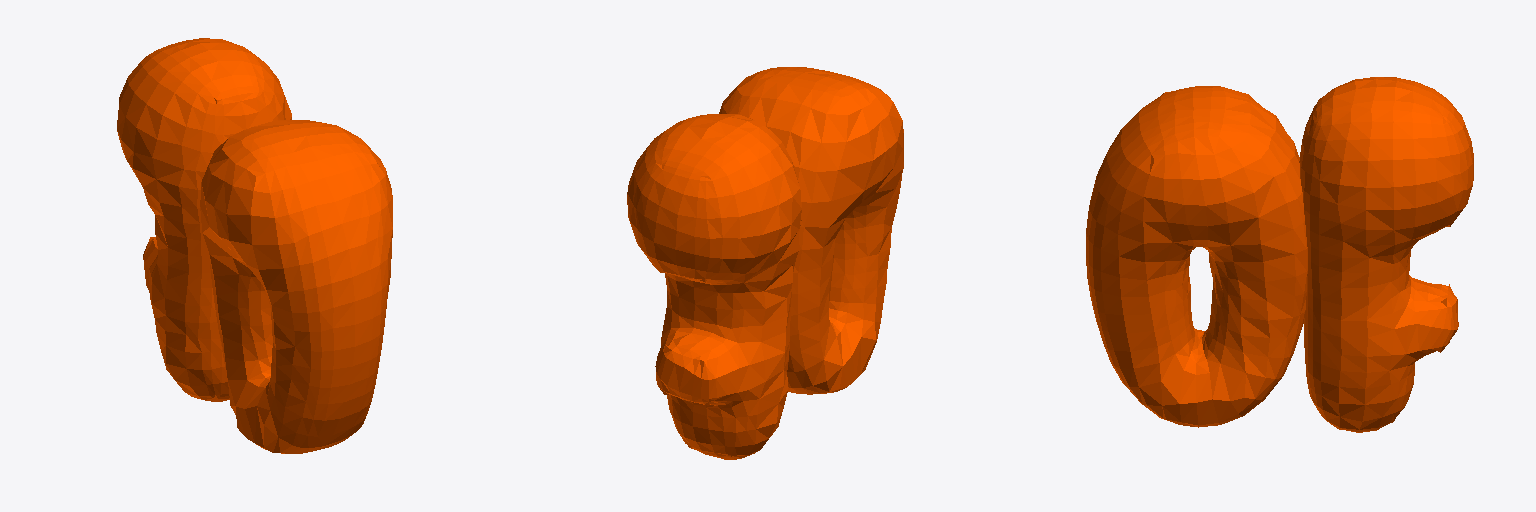
3 views of the same model, side by side, from view 1: azimuth 30°, elevation 25°; view 2: azimuth 150°, elevation 25°; view 3: azimuth 270°, elevation 25° (orthographic).
Visible parts, largest first — view 1: _of:of; view 2: _of:of; view 3: _of:of.
Part boxes in pixels (bbox=[...]): _of:of: bbox=[117, 38, 392, 453]; _of:of: bbox=[627, 67, 903, 459]; _of:of: bbox=[1086, 77, 1473, 432].
Size of the model in its own units: 0.1245 by 0.2512 by 0.2603.